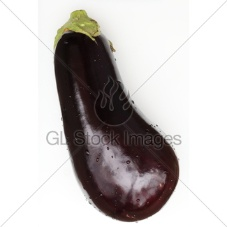eggplant: (56, 29, 182, 220)
